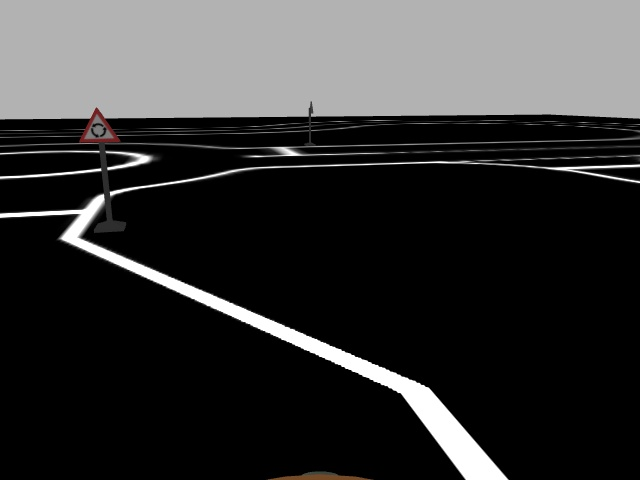roundabout: (76, 107, 121, 144)
